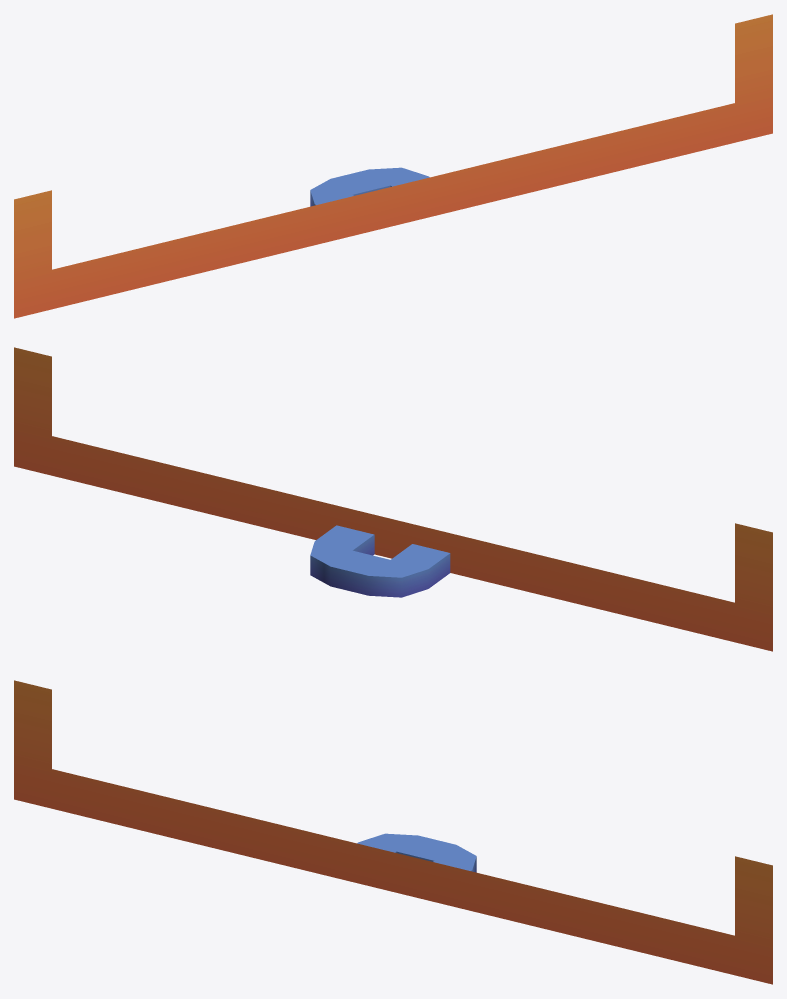
File: kenney-toy-car-track-wide-cap-front.glb
3 renders of one model, top to bottom at view 1: azimuth 30°, elevation 25°; view 2: azimuth 150°, elevation 25°; view 3: azimuth 330°, elevation 25°, orthographic.
Parts seen in each view (by area): view 1: track-wide-cap-front; view 2: track-wide-cap-front; view 3: track-wide-cap-front.
Part boxes in pixels (box(x1,y1,x2,y2)): track-wide-cap-front: box(14, 14, 772, 318); track-wide-cap-front: box(14, 347, 772, 651); track-wide-cap-front: box(14, 680, 772, 984).
Bounding box in the file's own units: 2 × 0.3001 × 0.2.
1 material, 1 textured.
